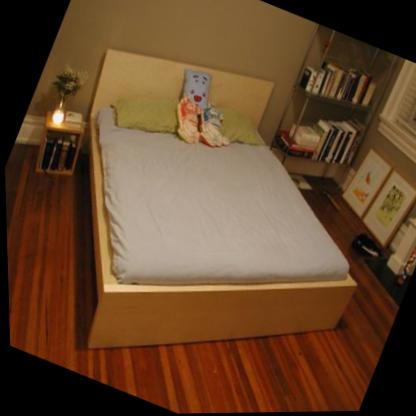Bed: (85, 50, 355, 348)
Wooden floor: (81, 284, 396, 414)
